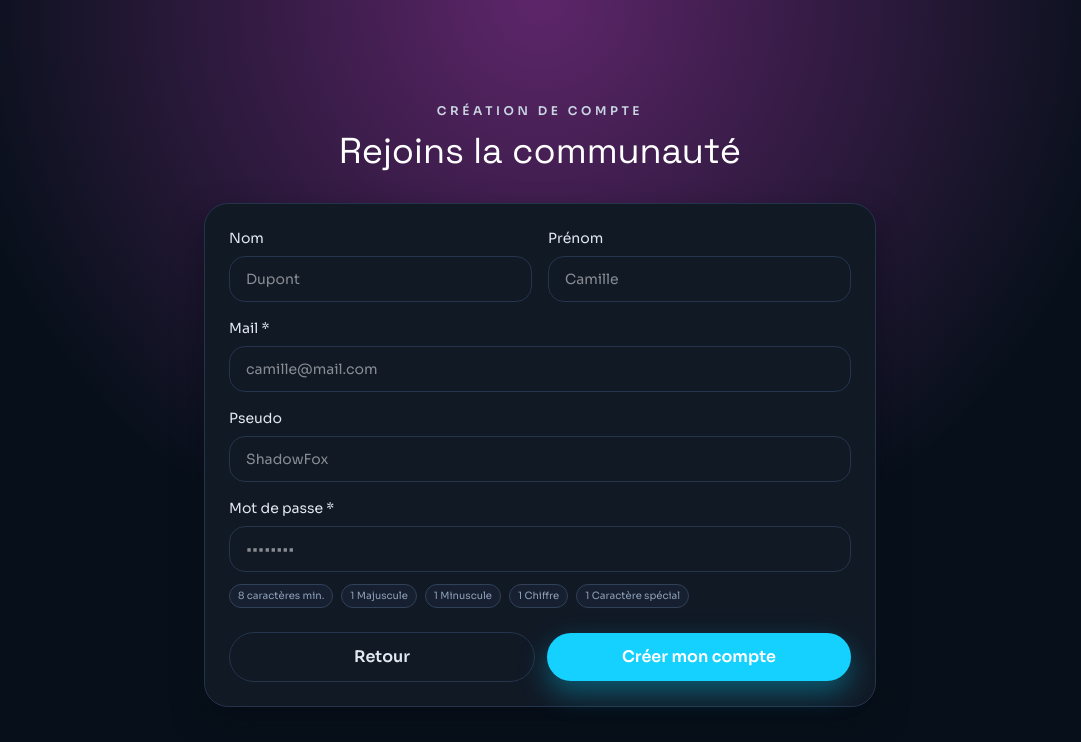
Test: InscriptionPage › shows the string error when registration fails with a string payload
The width and height of the screenshot is (1081, 742).
In the field labelled "Mail *": (540, 369) [229,346,851,392], type "manu@example.com"
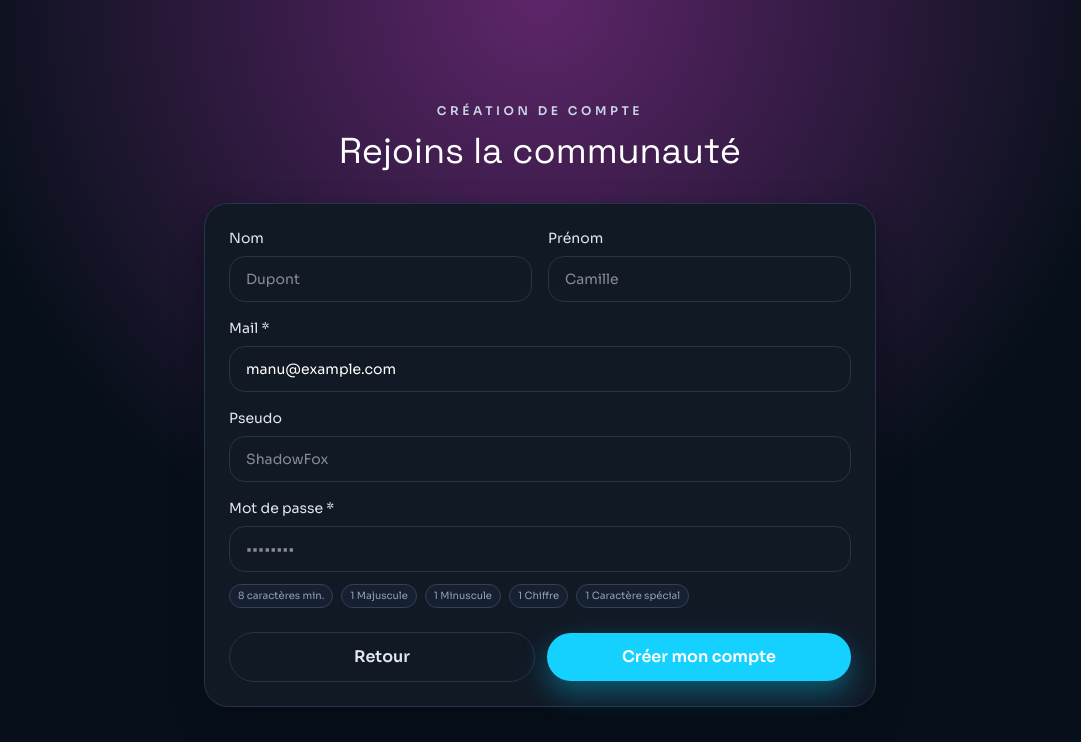
In the password field labelled "Mot de passe": (540, 549) [229,526,851,572], type "Secret123!"
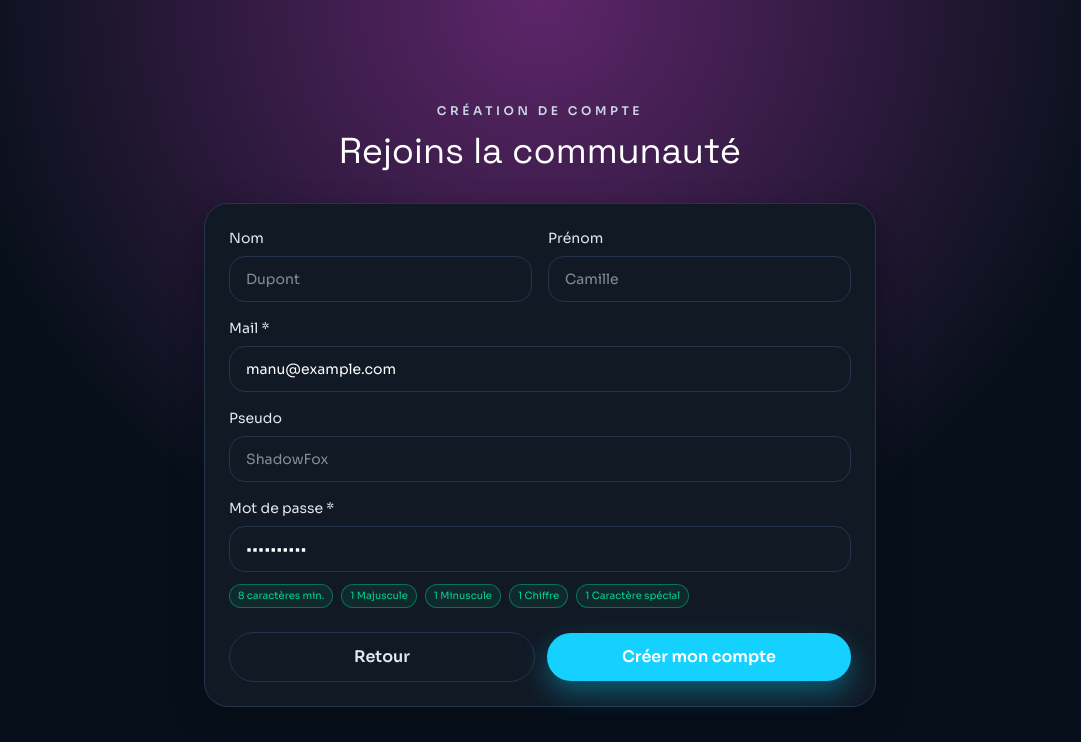
Click the button "Créer mon compte": (699, 657) [547,633,851,681]
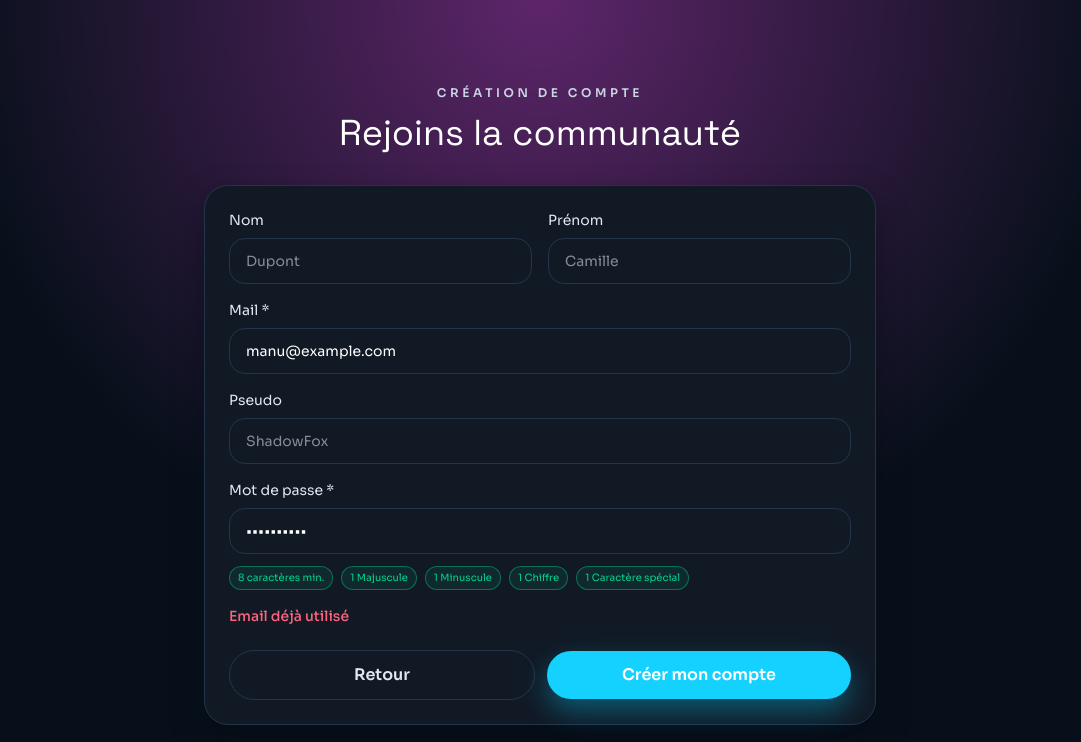
Expected: the text "Email déjà utilisé" is shown, [229,607,349,625]
